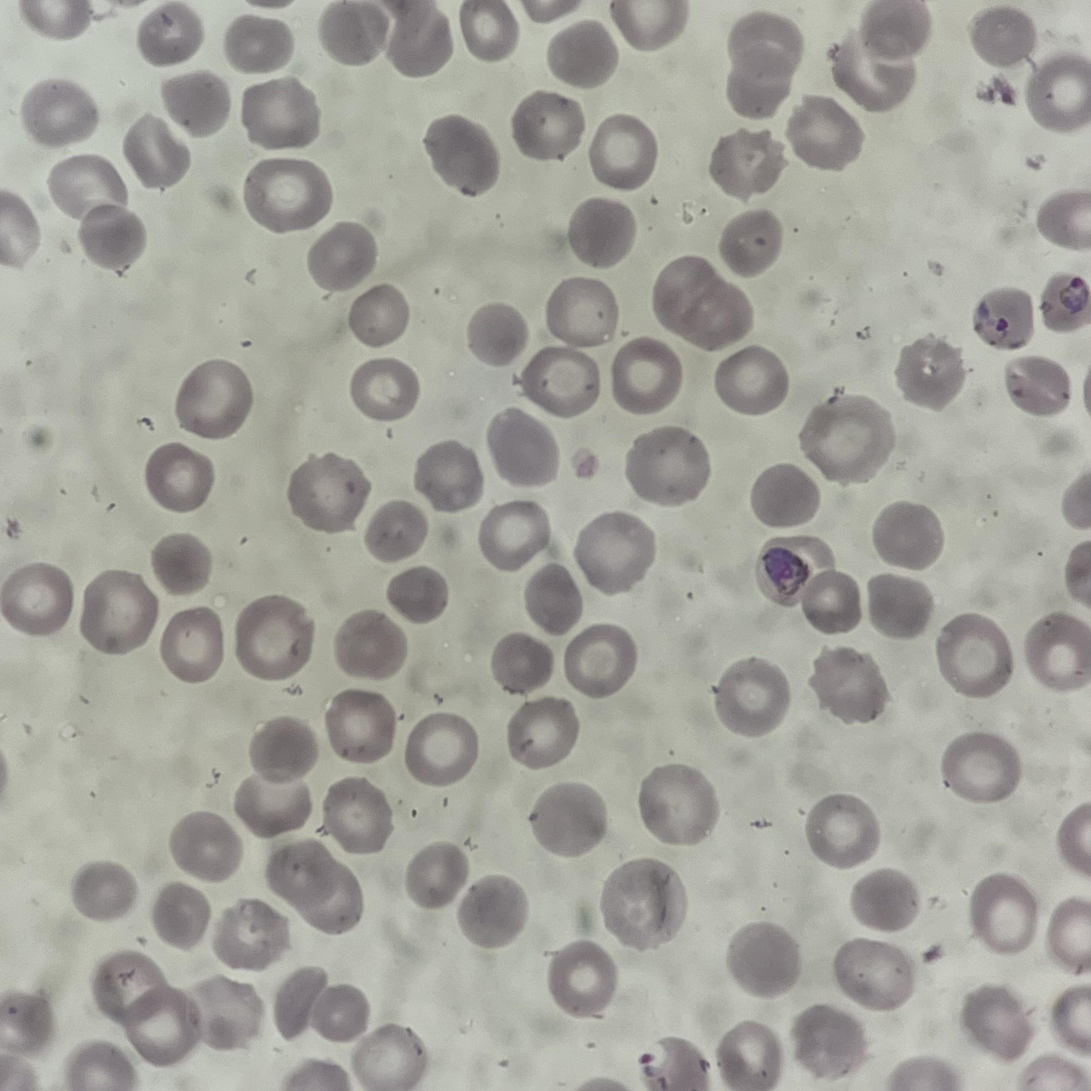Infected: (754, 536, 832, 611), (637, 1036, 710, 1091), (973, 287, 1035, 350), (1039, 272, 1091, 331)
Uninfected: (264, 839, 365, 936), (653, 255, 754, 351), (724, 10, 805, 115), (800, 393, 894, 481), (599, 858, 686, 948), (79, 570, 160, 655), (244, 158, 333, 234), (286, 453, 372, 531), (234, 598, 316, 679), (935, 613, 1015, 696), (574, 512, 655, 592), (636, 765, 716, 846), (624, 426, 707, 504), (423, 115, 502, 196), (807, 645, 888, 724), (117, 985, 198, 1064), (710, 658, 790, 737), (832, 38, 915, 114), (93, 950, 175, 1026), (175, 359, 253, 438), (526, 781, 606, 858), (240, 77, 323, 151), (485, 408, 561, 487), (518, 345, 600, 418), (785, 96, 863, 172), (188, 974, 263, 1051), (332, 609, 410, 683), (941, 732, 1021, 804), (1, 562, 76, 638), (725, 923, 802, 997), (790, 1004, 864, 1081), (708, 128, 785, 202), (833, 938, 913, 1009), (321, 777, 395, 853), (804, 794, 880, 868), (967, 874, 1039, 952), (168, 810, 243, 884), (323, 691, 399, 764), (610, 337, 683, 413), (232, 772, 312, 841), (894, 335, 968, 409), (455, 875, 530, 948), (545, 19, 620, 92), (545, 941, 618, 1016), (1023, 612, 1091, 692), (306, 221, 380, 294), (403, 713, 478, 785), (212, 898, 287, 970), (544, 277, 618, 349), (382, 3, 454, 77), (713, 345, 788, 416), (123, 115, 194, 190), (962, 985, 1033, 1060), (21, 78, 99, 146), (1024, 53, 1091, 132), (563, 625, 636, 697), (871, 500, 945, 571), (505, 698, 579, 769), (158, 70, 232, 141), (510, 91, 584, 162), (47, 154, 126, 220), (566, 197, 637, 270), (587, 115, 657, 189), (478, 501, 550, 571), (144, 443, 216, 513), (246, 715, 319, 784), (413, 441, 484, 511), (77, 202, 148, 272), (158, 609, 226, 682), (749, 464, 823, 531), (352, 1026, 426, 1091), (849, 868, 920, 935), (858, 0, 932, 64), (319, 2, 391, 66), (866, 573, 934, 640), (718, 210, 784, 279), (349, 358, 420, 422), (521, 563, 583, 636), (404, 842, 470, 910), (487, 630, 556, 695), (363, 500, 431, 565), (715, 1022, 780, 1090), (137, 3, 206, 67), (150, 882, 214, 950), (223, 13, 293, 75), (273, 967, 333, 1039), (970, 5, 1037, 69), (345, 283, 411, 347), (150, 532, 215, 596), (71, 860, 138, 922), (306, 982, 373, 1044), (1005, 356, 1073, 417), (465, 302, 529, 366), (799, 570, 863, 634), (610, 1, 686, 51), (386, 565, 449, 625), (459, 2, 521, 61), (1036, 188, 1091, 253)
